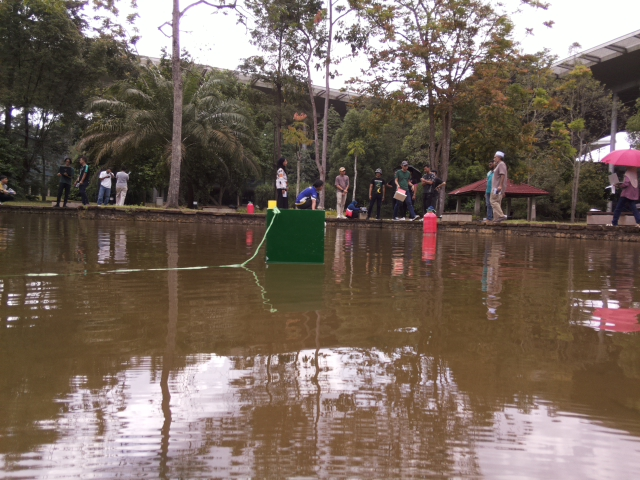obstacle: (265, 208, 326, 266)
